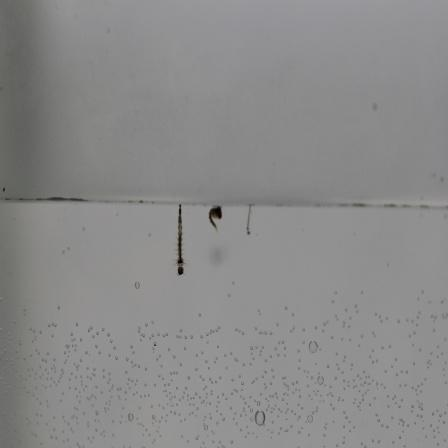Jentik-Nyamuk: (171, 203, 188, 278), (205, 203, 228, 233), (242, 202, 257, 240)
